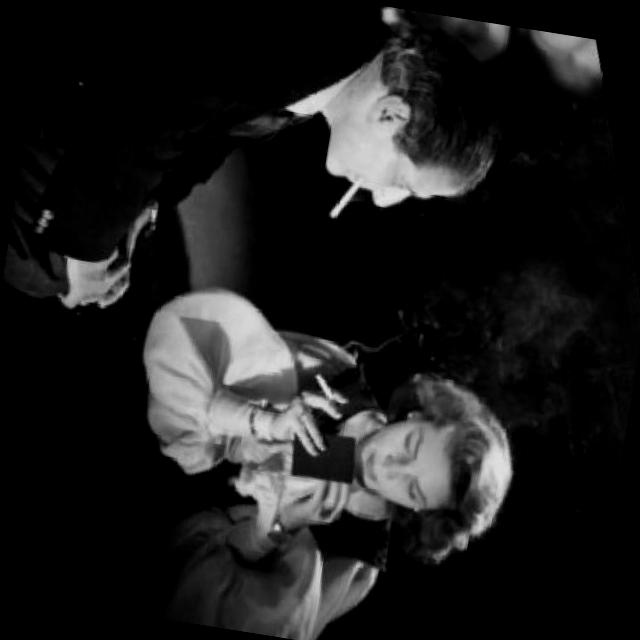cigarette: (315, 173, 371, 228), (306, 364, 341, 410)
